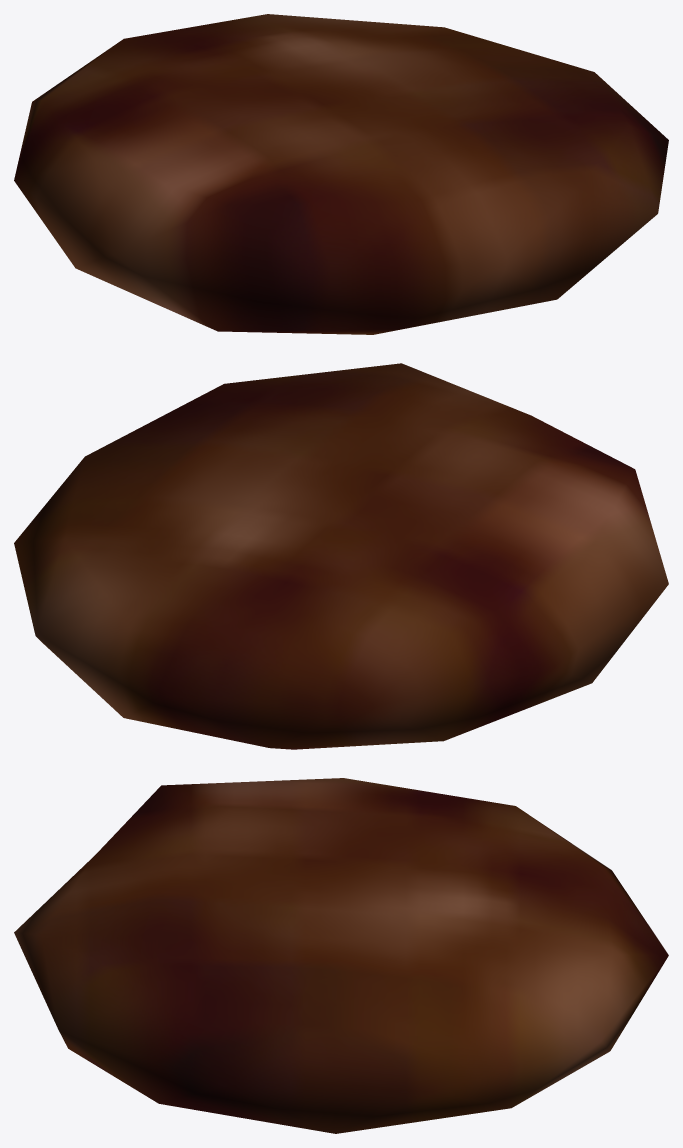
File: MOTONDEMIERDA.fbx
3 views of the same model, one above another, from view 1: azimuth 30°, elevation 25°; view 2: azimuth 150°, elevation 25°; view 3: azimuth 270°, elevation 25° (orthographic). The views are drawn at different scales.
Visible parts, largest first — view 1: Icosphere; view 2: Icosphere; view 3: Icosphere.
Part boxes in pixels (x1,y1,x2,y2): Icosphere: [14, 14, 668, 334]; Icosphere: [14, 363, 668, 749]; Icosphere: [14, 778, 668, 1133].
Size of the model in its own units: 165 by 59.94 by 173.
1 material, 1 textured.
